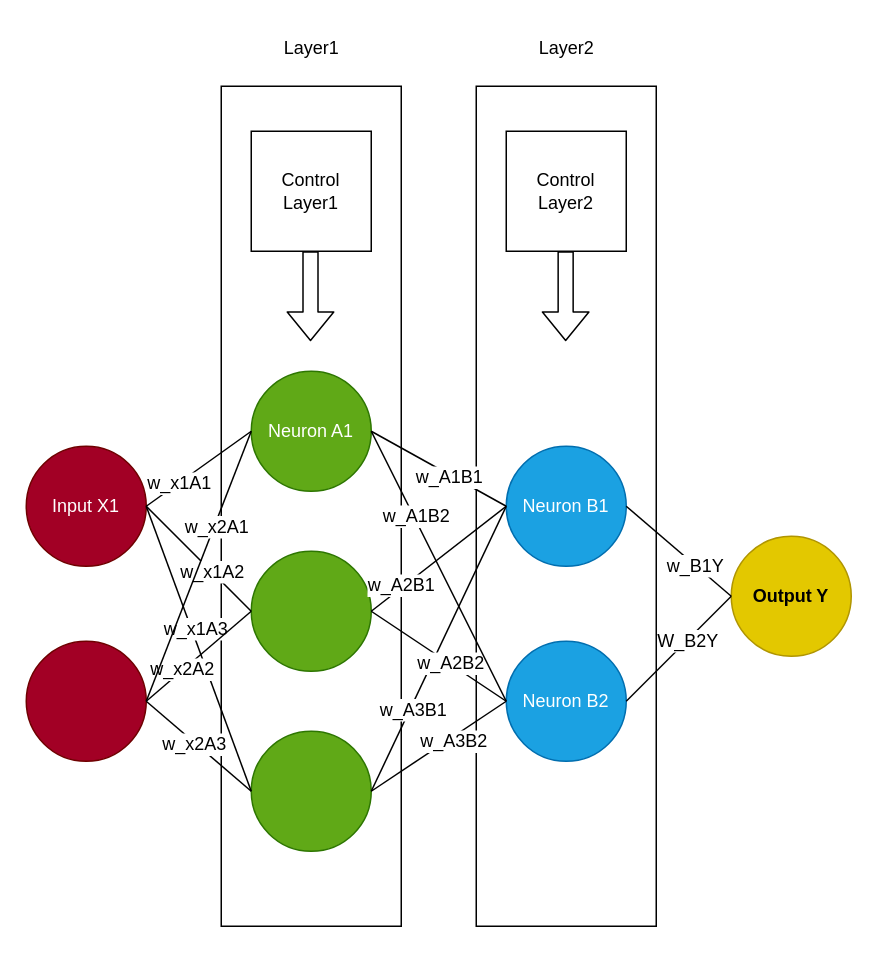
The diagram is 878 pixels wide and 953 high, and some of its shapes have lost their labels. Each missing label, with the box of its shape:
Input X2: (25, 640, 146, 761)
Neuron A2: (250, 550, 371, 671)
Neuron A3: (250, 730, 371, 851)
